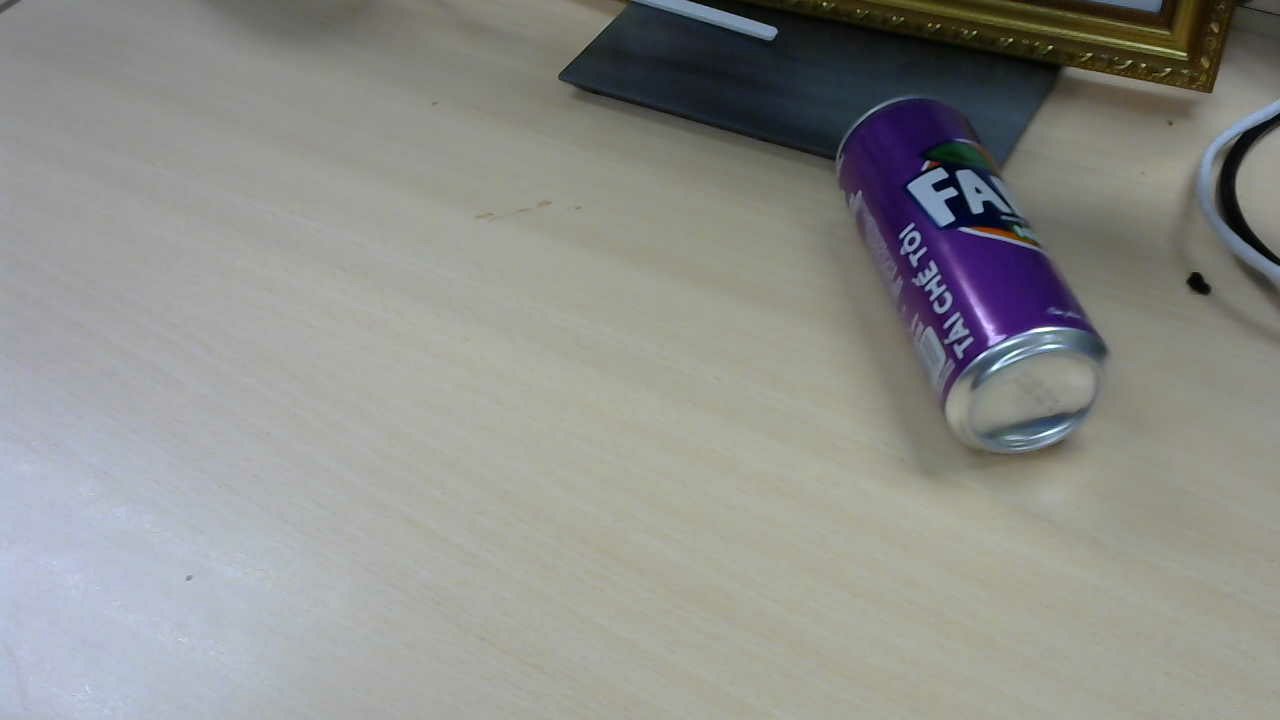Fanta: (837, 100, 1115, 461)
